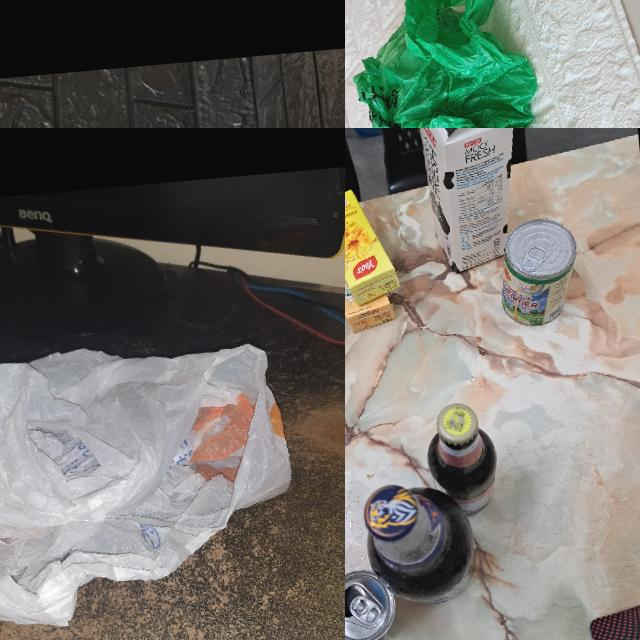aba de lata: (347, 594, 382, 630), (520, 245, 550, 272)
caixinha: (413, 128, 526, 274), (345, 185, 401, 308), (345, 226, 396, 336)
garrafa de vidro: (361, 476, 478, 608), (422, 399, 501, 518)
lata: (494, 216, 583, 328), (345, 568, 398, 640)
sacola plástica: (0, 328, 309, 640), (345, 0, 550, 128)
